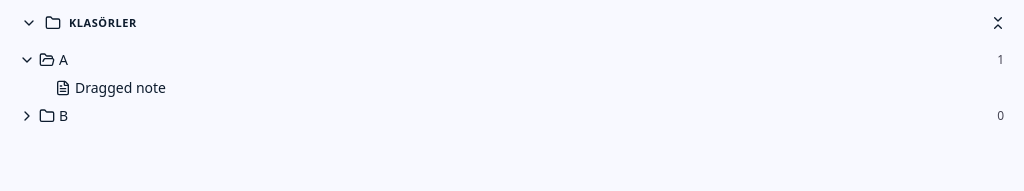
Test: SidebarTree drag preview › portals the note card, leaves the source in place, and removes it on Escape
This screenshot has width=1024, height=191.
Step 1. Press the mouse on the list item with aria-label "Not: Dragged note" → (110, 88), box top-left (55, 78), bottom-right (166, 97)
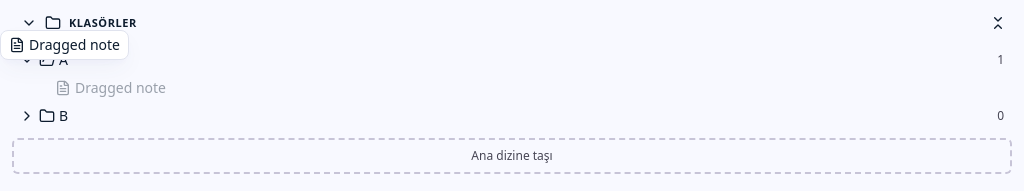
Expected: the element with test id "tree-drag-preview" is shown, top-left (0, 30), bottom-right (129, 60)
Expected: the element with test id "tree-drag-preview" reads "Dragged note", top-left (29, 35), bottom-right (120, 54)
Step 2. Press Escape
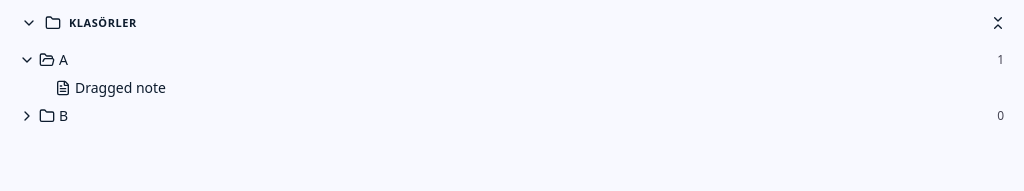
Expected: the element with test id "tree-drag-preview" is gone
